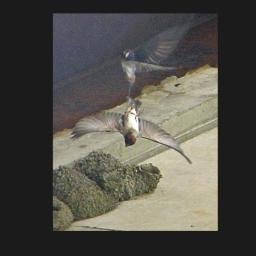Swallow: (68, 93, 194, 166)
